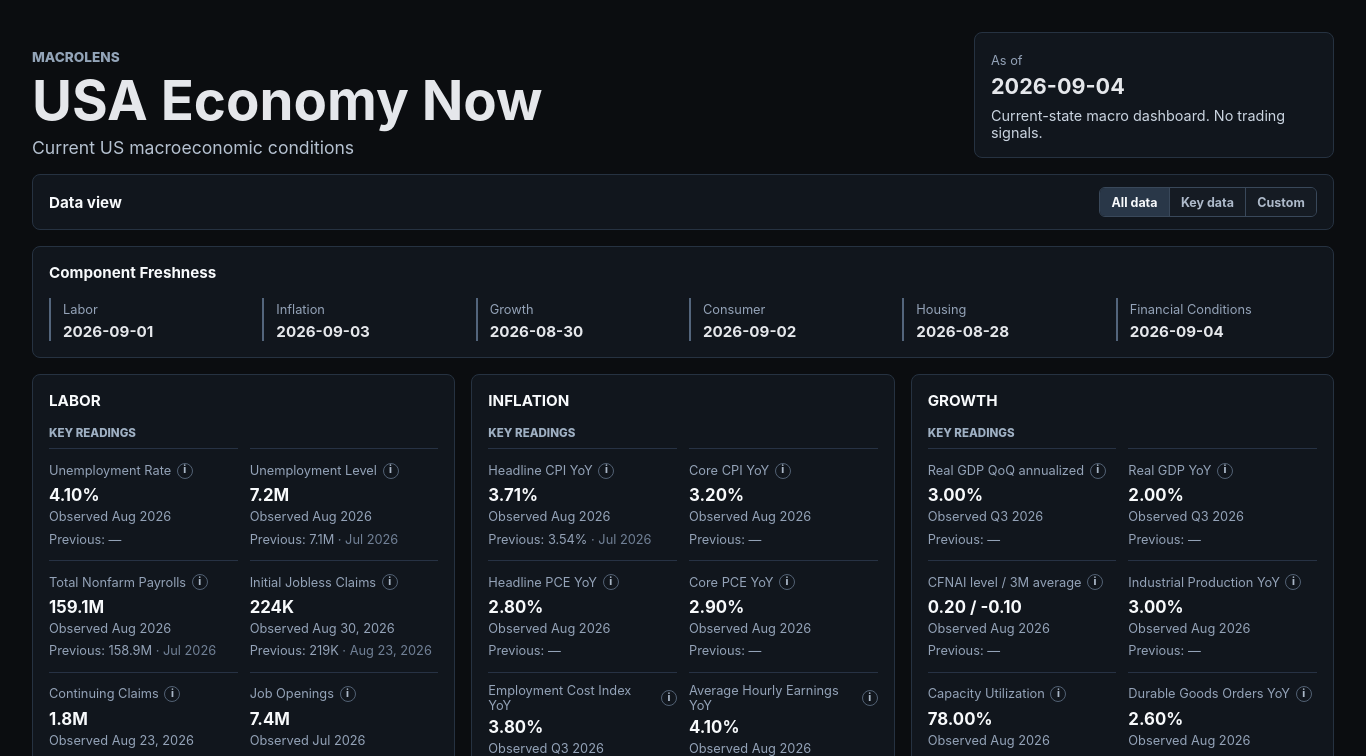
Test case: MacroLens detailed dashboard › Custom mode shows grouped metric checkboxes
Click the button "Custom". click: coordinates (1281, 202)
box: [1246, 188, 1316, 216]
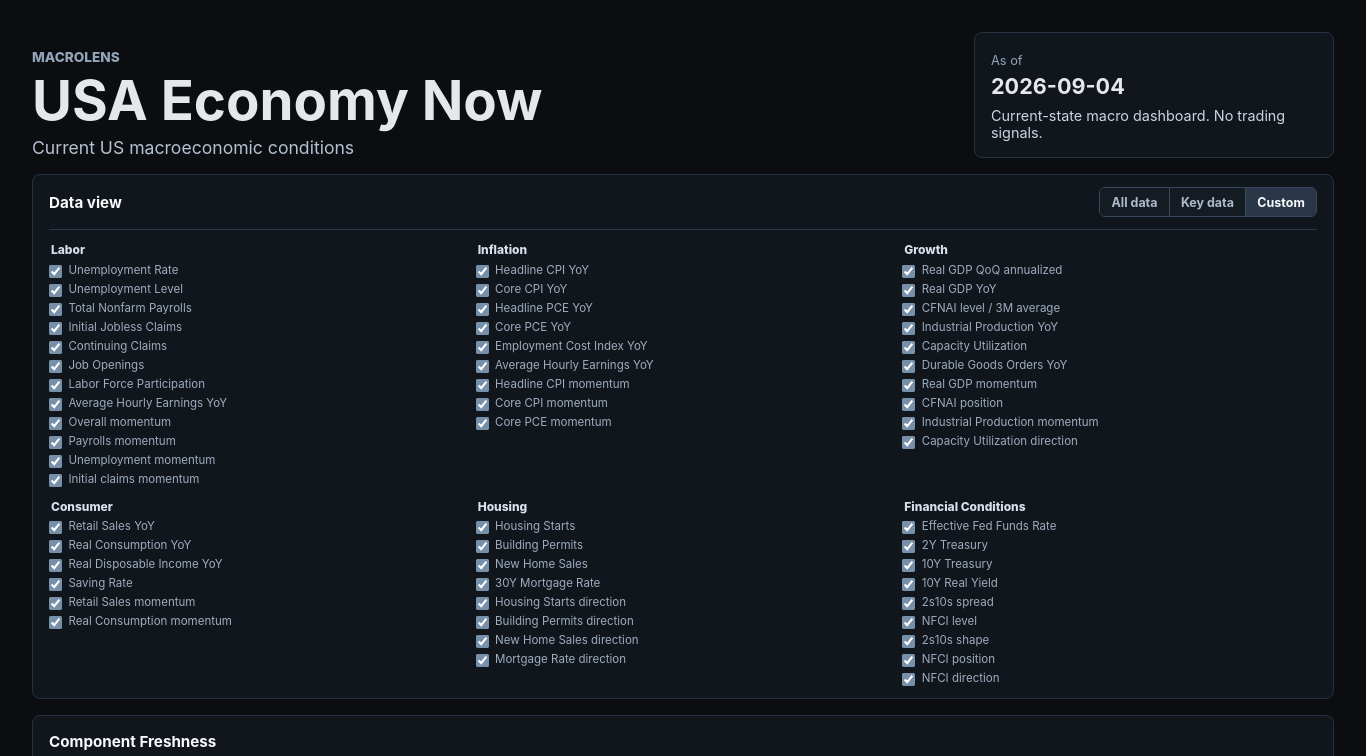
Expected: the element named "Custom metric selection" is shown, [49, 229, 1317, 686]
Expected: the element "Labor" is shown, [49, 242, 227, 487]
Expected: the checkbox labelled "Unemployment Rate" is checked, [49, 265, 62, 278]
